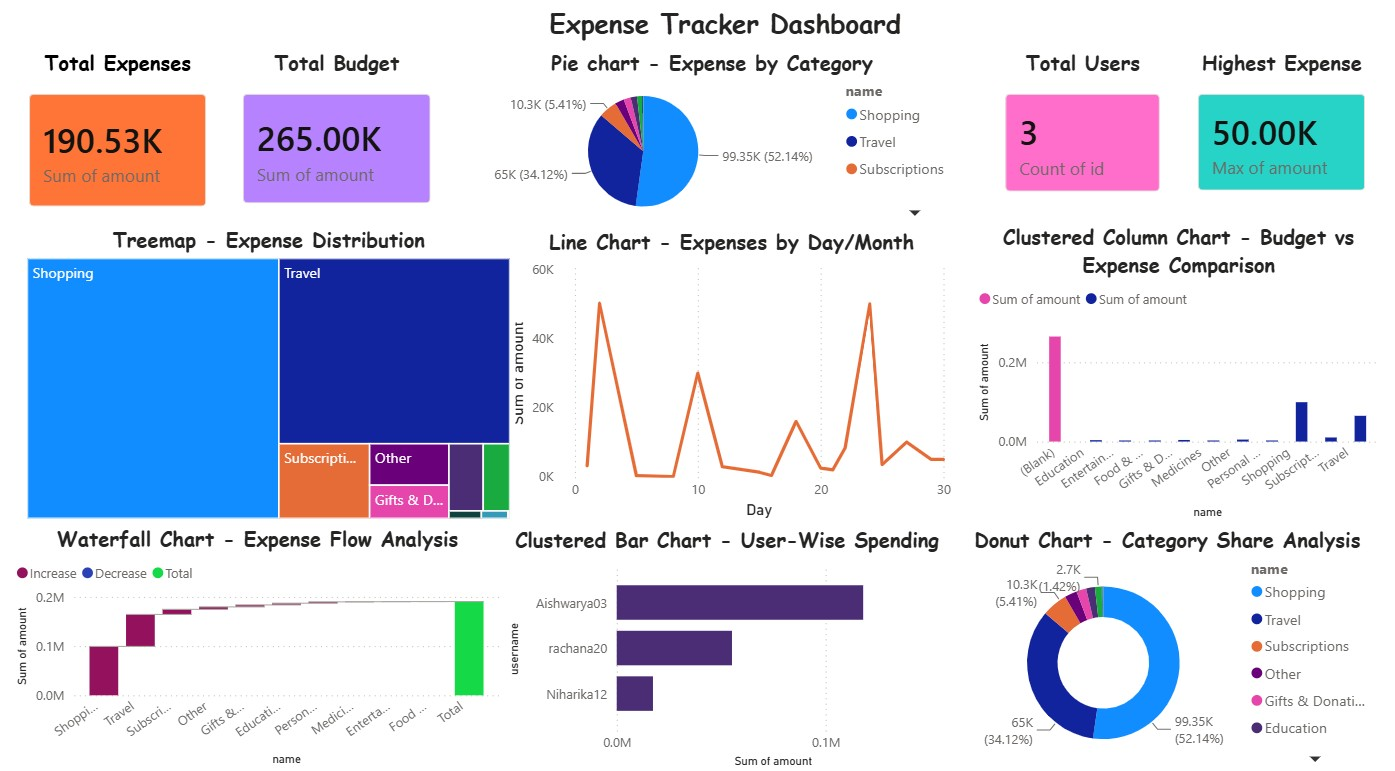

The dashboard page shown, as its layout file describes it:
{"tool":"powerbi","page":{"name":"Expense Tracker Dashboard","canvas":[1280,720],"ordinal":0},"visuals":[{"type":"cardVisual","title":"Total Expenses","fields":{"Data":["Sum(expenses.amount)"]},"box":[0,44,199.3,166.3],"z":0},{"type":"cardVisual","title":"Total Budget","fields":{"Data":["Sum(budgets.amount)"]},"box":[199.3,44,209.1,162.6],"z":1000},{"type":"pieChart","title":"Pie chart - Expense by Category","fields":{"Category":["categories.name"],"Y":["Sum(expenses.amount)"]},"box":[396.2,44,514.8,167.5],"z":2000},{"type":"lineChart","title":"Line Chart - Expenses by Day/Month","fields":{"Category":["expenses.expense_date.Variation.Date Hierarchy.Year","expenses.expense_date.Variation.Date Hierarchy.Quarter","expenses.expense_date.Variation.Date Hierarchy.Month","expenses.expense_date.Variation.Date Hierarchy.Day"],"Y":["Sum(expenses.amount)"]},"box":[459.8,211.6,425.5,277.6],"z":3000},{"type":"clusteredBarChart","title":"Clustered Bar Chart - User-Wise Spending","fields":{"Category":["users.username"],"Y":["Sum(expenses.amount)"]},"box":[459.8,489.1,417,231.1],"z":4000},{"type":"clusteredColumnChart","title":"Clustered Column Chart - Budget vs Expense Comparison","fields":{"Category":["categories.name"],"Y":["Sum(budgets.amount)","Sum(expenses.amount)"]},"box":[897.6,206.7,382.7,282.5],"z":5000},{"type":"donutChart","title":"Donut Chart - Category Share Analysis","fields":{"Category":["categories.name"],"Y":["Sum(expenses.amount)"]},"box":[876.8,489.1,403.5,231.1],"z":6000},{"type":"cardVisual","title":"Total Users","fields":{"Data":["CountNonNull(users.id)"]},"box":[911,44,178.5,151.6],"z":7000},{"type":"cardVisual","title":"Highest Expense","fields":{"Data":["Max(expenses.amount)"]},"box":[1089.5,44,190.8,150.4],"z":8000},{"type":"waterfallChart","title":"Waterfall Chart - Expense Flow Analysis","fields":{"Y":["Sum(expenses.amount)"],"Category":["categories.name"]},"box":[0,489,460,231],"z":9000},{"type":"treemap","title":"Treemap - Expense Distribution","fields":{"Group":["categories.name"],"Values":["Sum(expenses.amount)"]},"box":[11,210.3,459.8,278.8],"z":10000},{"type":"textbox","box":[408.4,0,516,44],"z":10001}]}

Visuals, with their boxes in screenshot pixels (x1, y1, x2, y2), scaled from the page's 1280x720 canvas onto the 1395x771 screenshot:
"Total Expenses" cardVisual: left=0, top=47, right=217, bottom=225
"Total Budget" cardVisual: left=217, top=47, right=445, bottom=221
"Pie chart - Expense by Category" pieChart: left=432, top=47, right=993, bottom=226
"Line Chart - Expenses by Day/Month" lineChart: left=501, top=227, right=965, bottom=524
"Clustered Bar Chart - User-Wise Spending" clusteredBarChart: left=501, top=524, right=956, bottom=770
"Clustered Column Chart - Budget vs Expense Comparison" clusteredColumnChart: left=978, top=221, right=1394, bottom=524
"Donut Chart - Category Share Analysis" donutChart: left=956, top=524, right=1394, bottom=770
"Total Users" cardVisual: left=993, top=47, right=1187, bottom=209
"Highest Expense" cardVisual: left=1187, top=47, right=1394, bottom=208
"Waterfall Chart - Expense Flow Analysis" waterfallChart: left=0, top=524, right=501, bottom=770
"Treemap - Expense Distribution" treemap: left=12, top=225, right=513, bottom=524
textbox: left=445, top=0, right=1007, bottom=47
